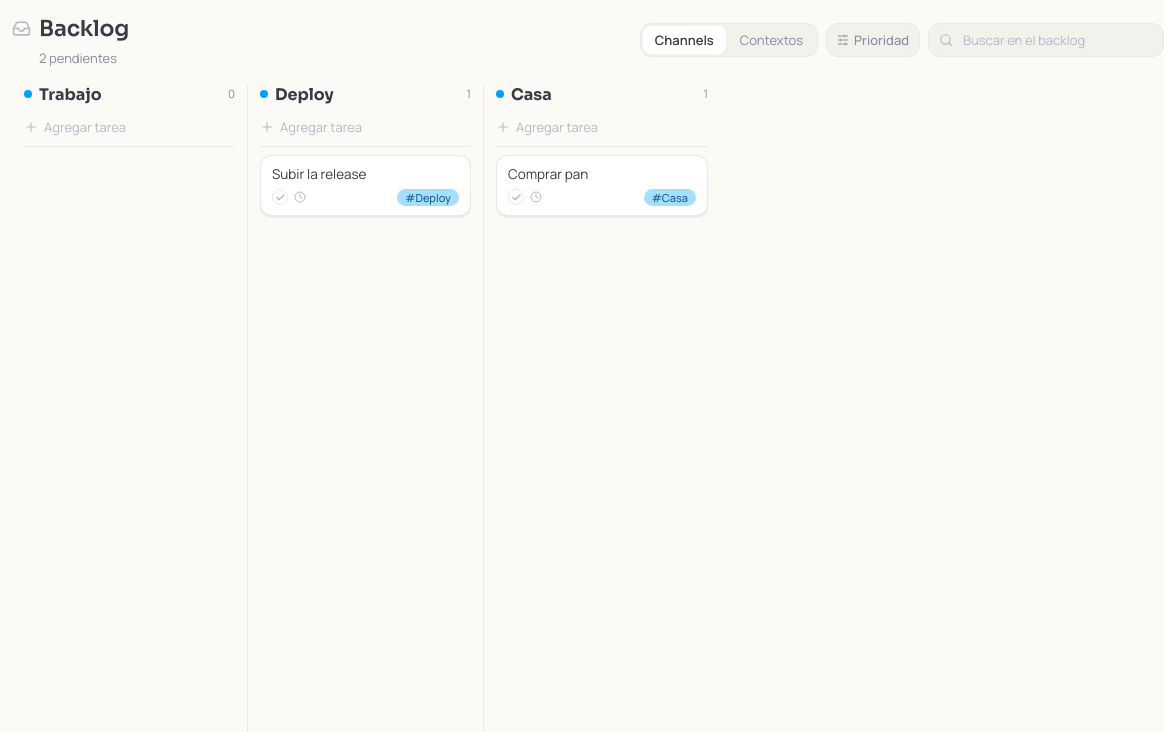
Test case: BacklogView · un grupo por columna › el buscador filtra por título y esconde los grupos sin resultados
The width and height of the screenshot is (1164, 732).
expect the element with class "backlog__col" showing "Trabajo 0 Agregar tarea" is shown: met, box [12,84,248,731]
Type "release" into the field labelled "Buscar en el backlog" at x=1057, y=40, box [961,30,1153,50]
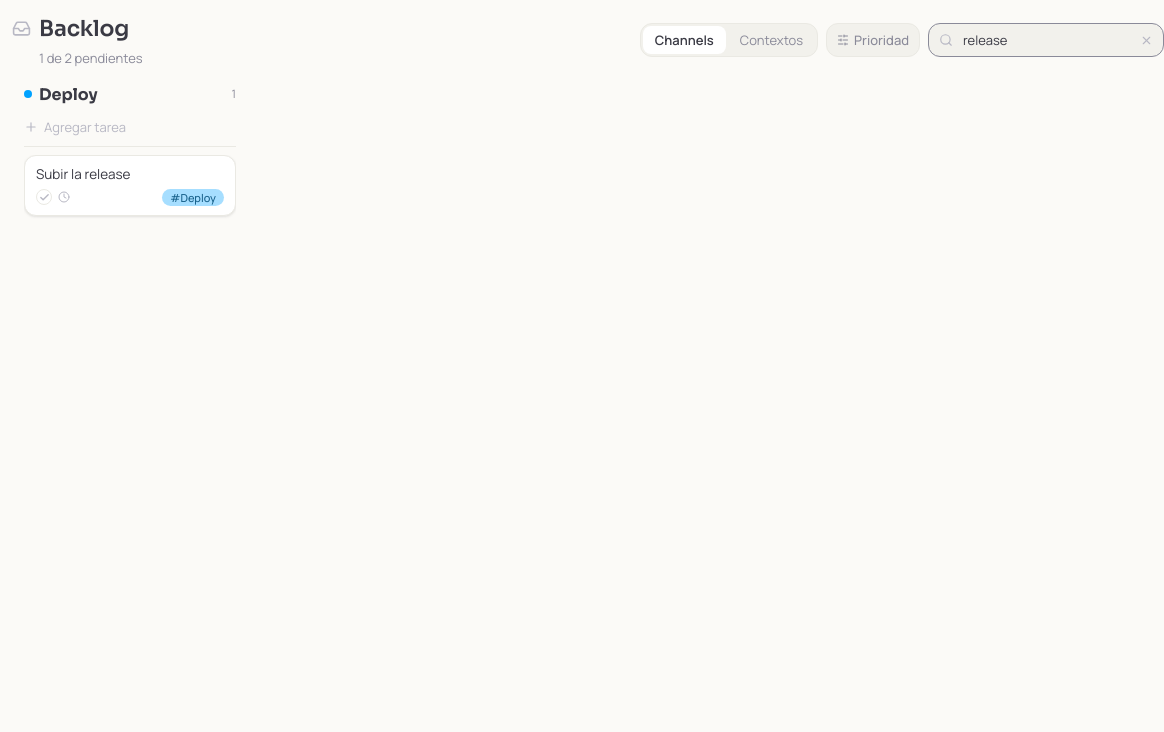
expect the text "1 de 2 pendientes" is shown: met, box [39,49,143,67]
